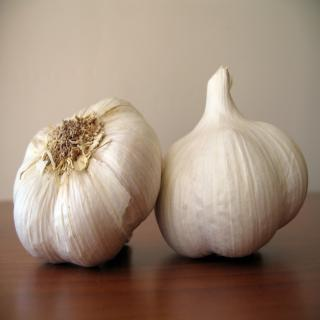Bawang Putih: (17, 79, 173, 278)
